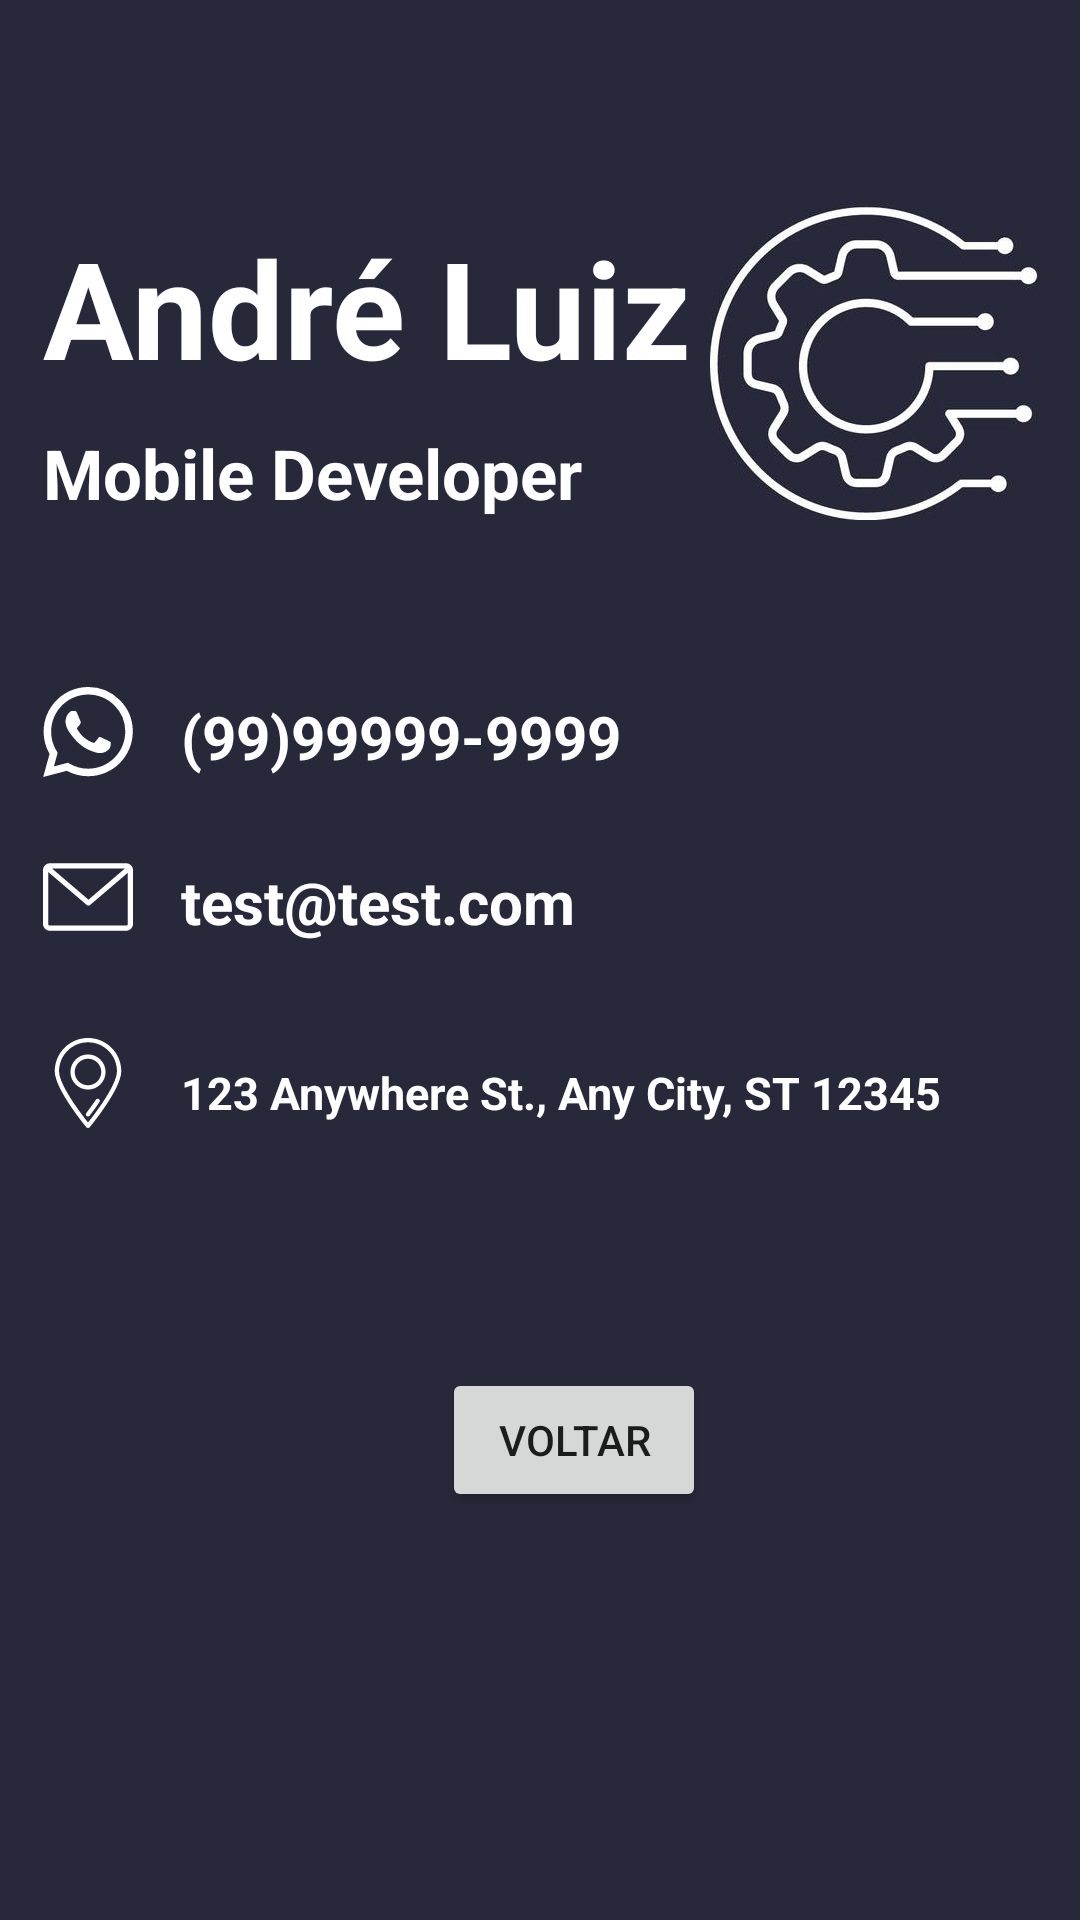

Icon bounding boxes for this 1080*1920 phone screenshot, format [x1=x1, y1=y1, x2=x2, y2=y2]:
location: [x1=54, y1=1038, x2=122, y2=1128]
mail: [x1=43, y1=863, x2=133, y2=931]
